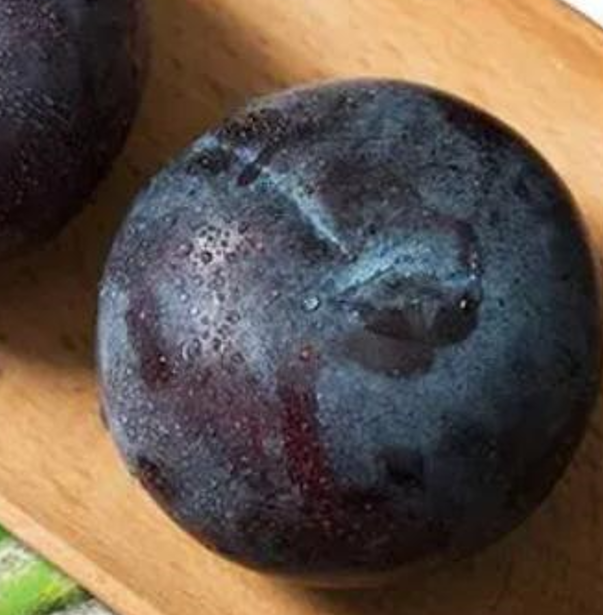plum_A: (96, 76, 601, 588)
